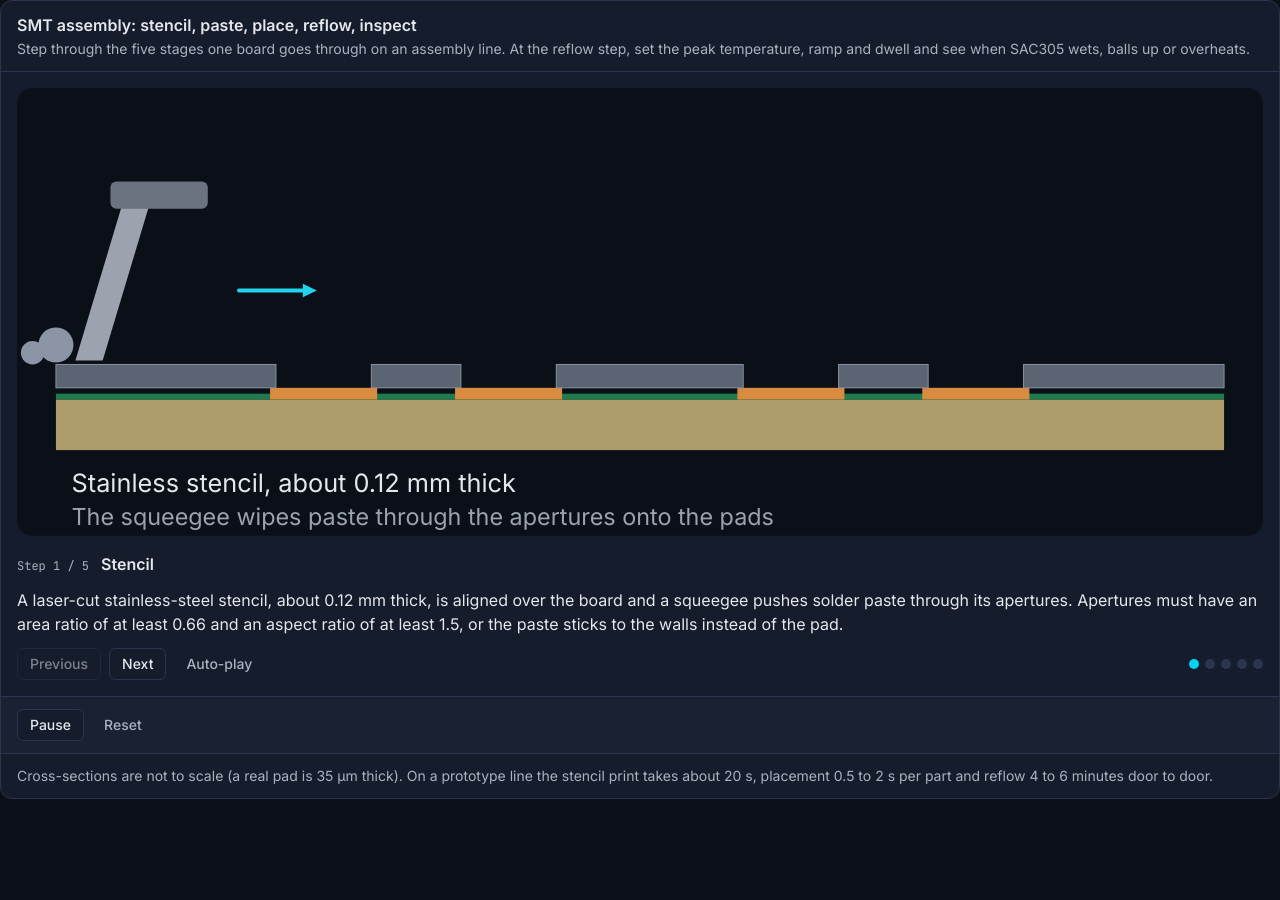
Test case: SmtAssemblyStepper › lets the learner inject a tombstone at the inspection step
Click the button "Next": (138,664) [109, 648, 166, 680]
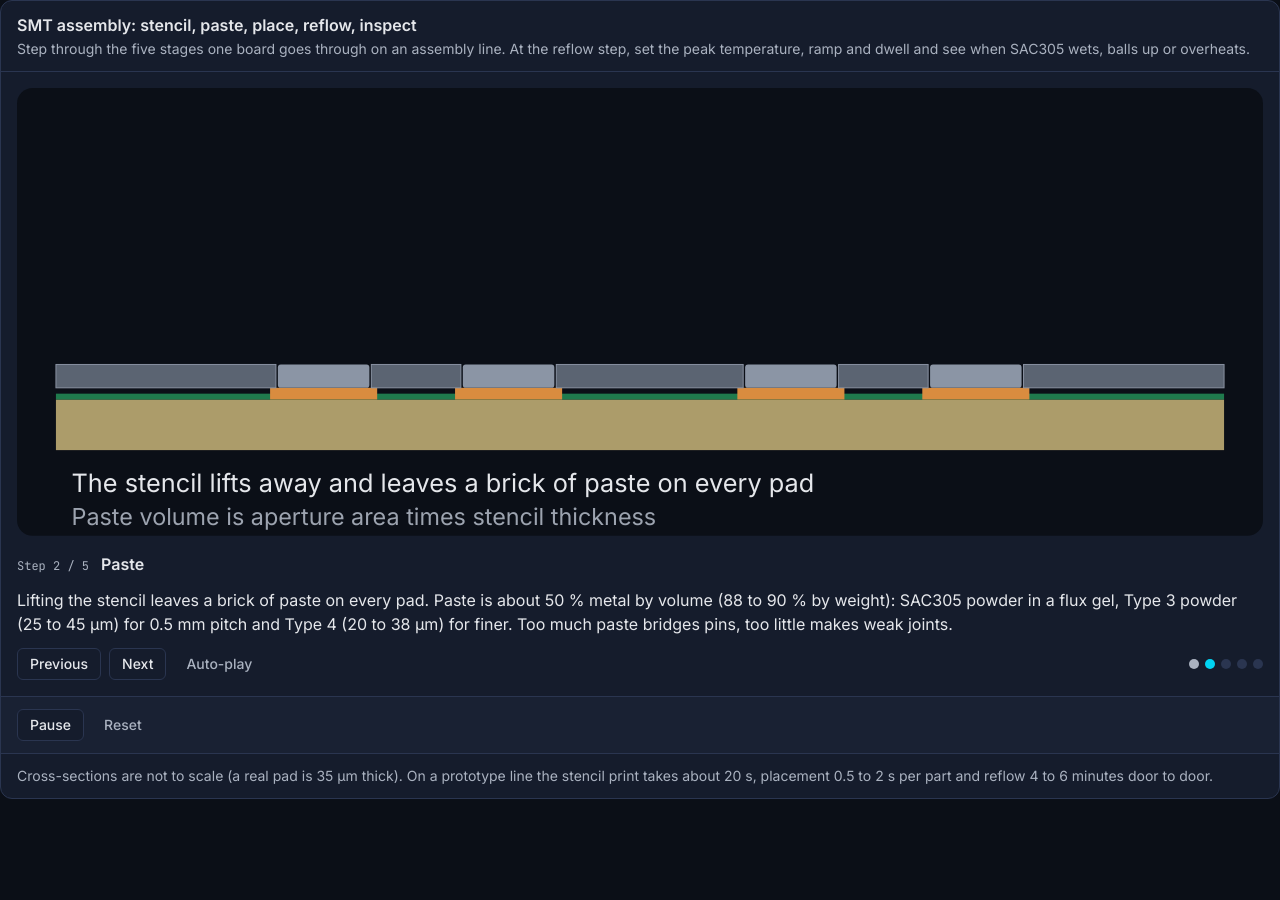
Click the button "Next": (138,664) [109, 648, 166, 680]
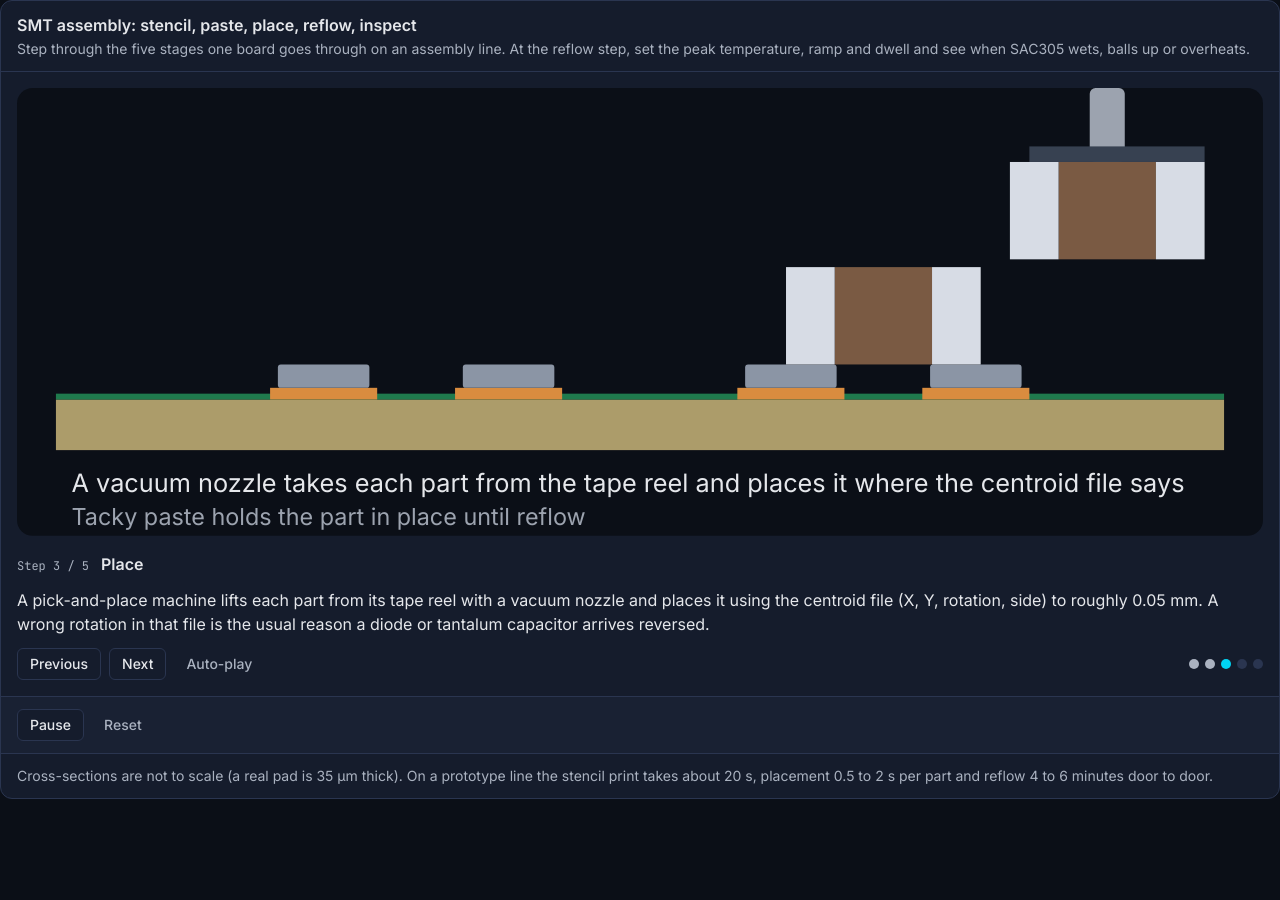
Click the button "Next": (138,664) [109, 648, 166, 680]
(page scrolled)
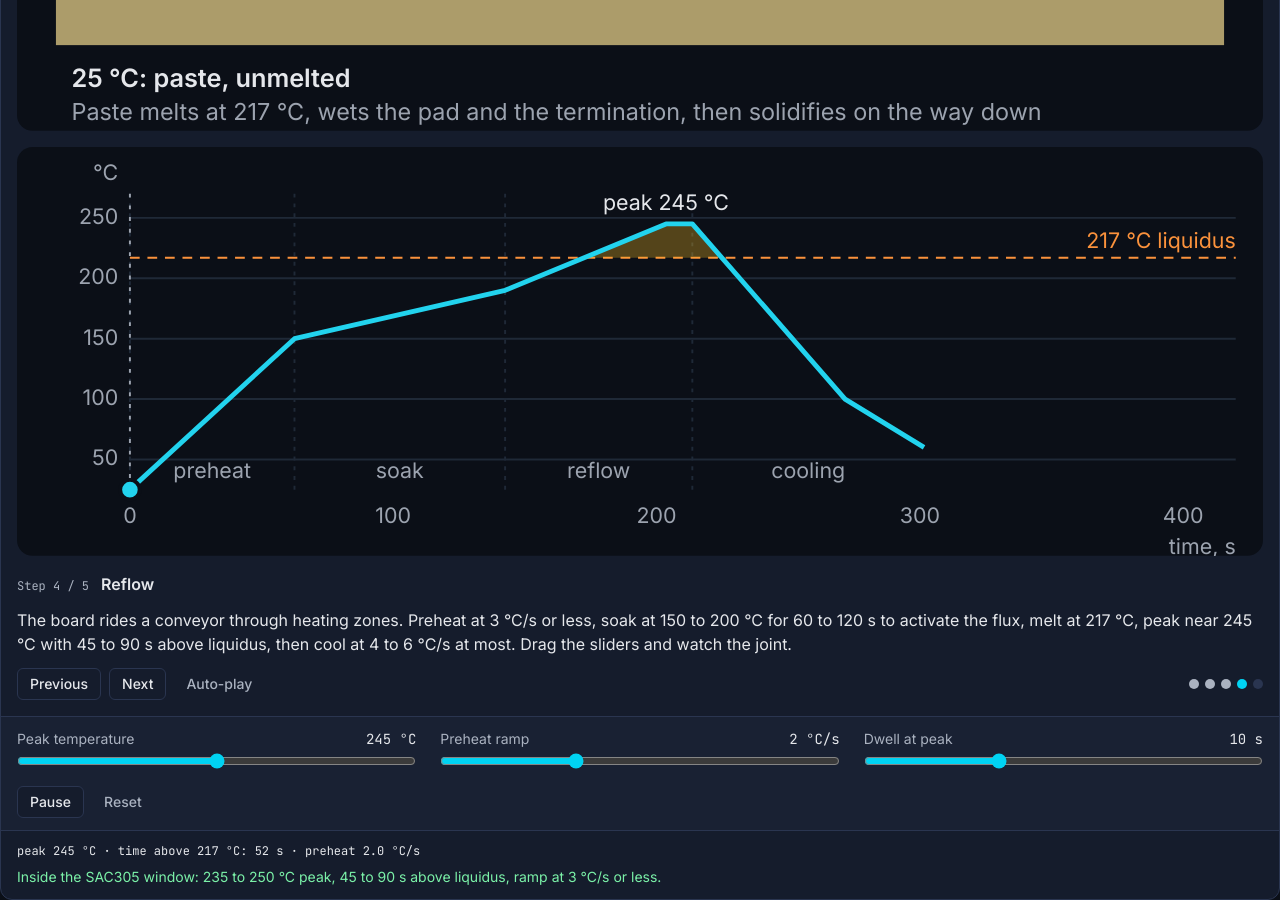
Click the button "Next": (138,684) [109, 668, 166, 700]
(page scrolled)
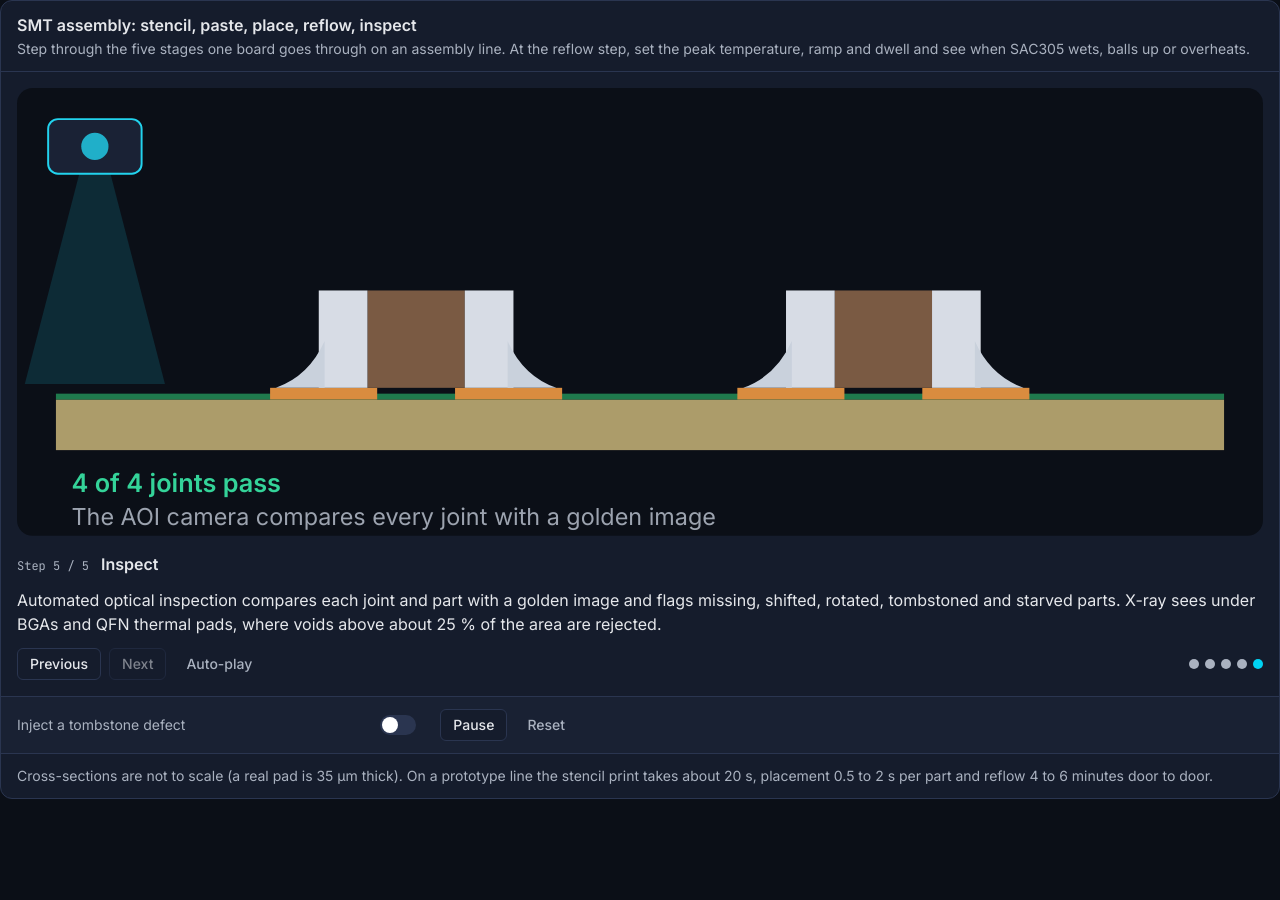
Check: the picture named "SMT assembly step 5: Inspect" shows "4 of 4 joints pass", box [72, 467, 281, 498]
Click the switch labelled "Inject a tombstone defect": (101,724) [17, 709, 416, 741]
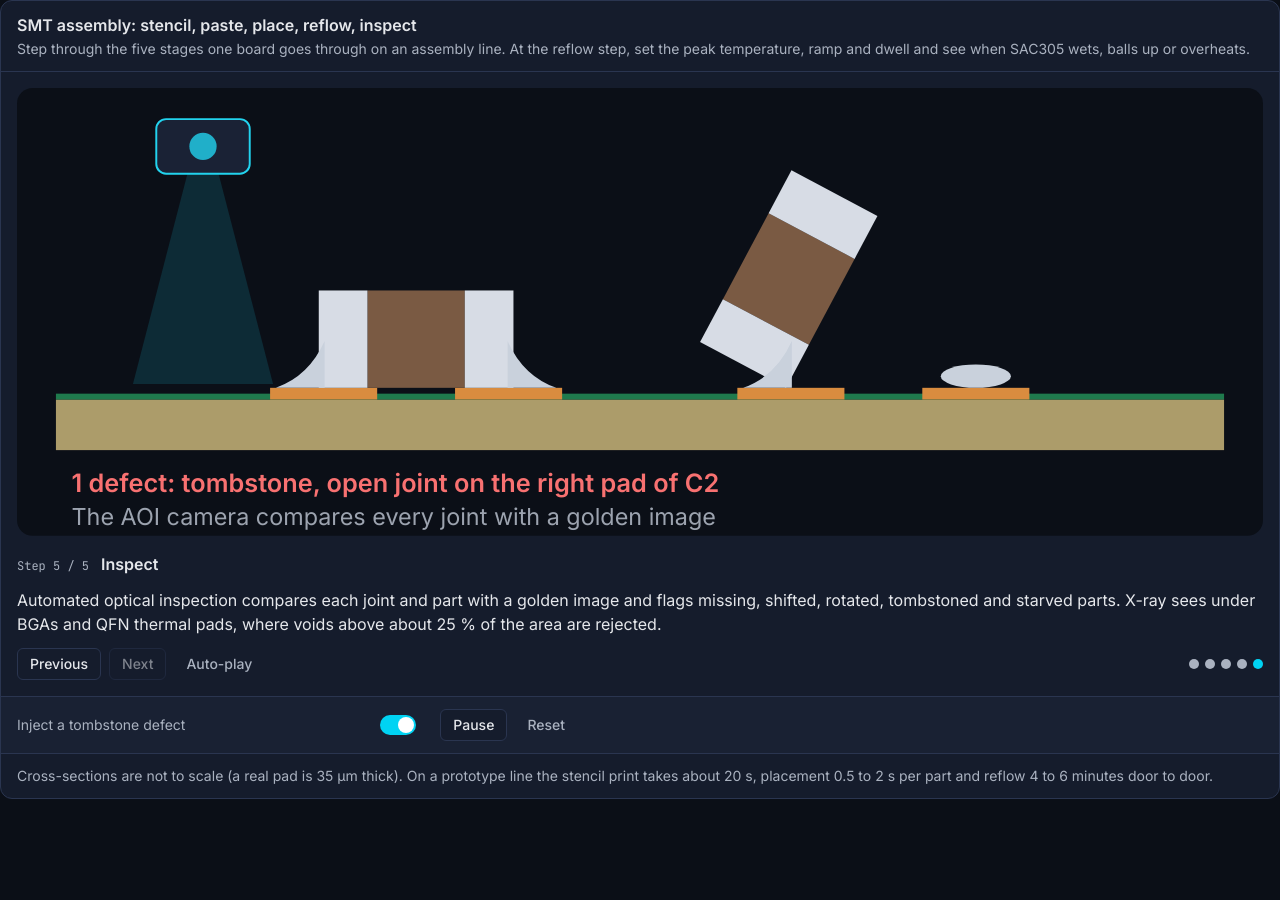
Check: the picture named "SMT assembly step 5: Inspect" shows "1 defect: tombstone", box [72, 467, 719, 498]
